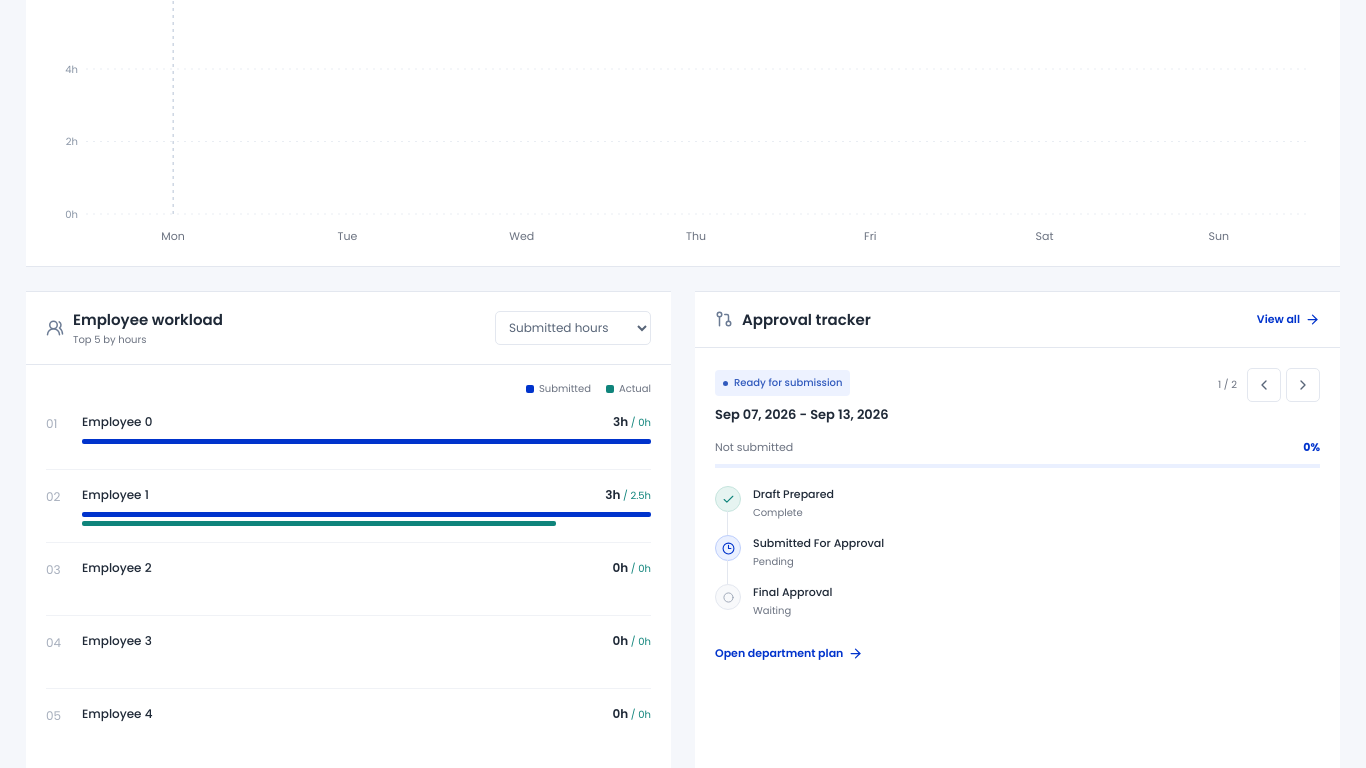
Test: Supervisor dashboard › shows date-clipped totals and excludes pending variance, with navigable workflows
(page scrolled)
Step 1. Click the button named "Next department workflow" → (1303, 385), box left=1286, top=368, right=1320, bottom=402
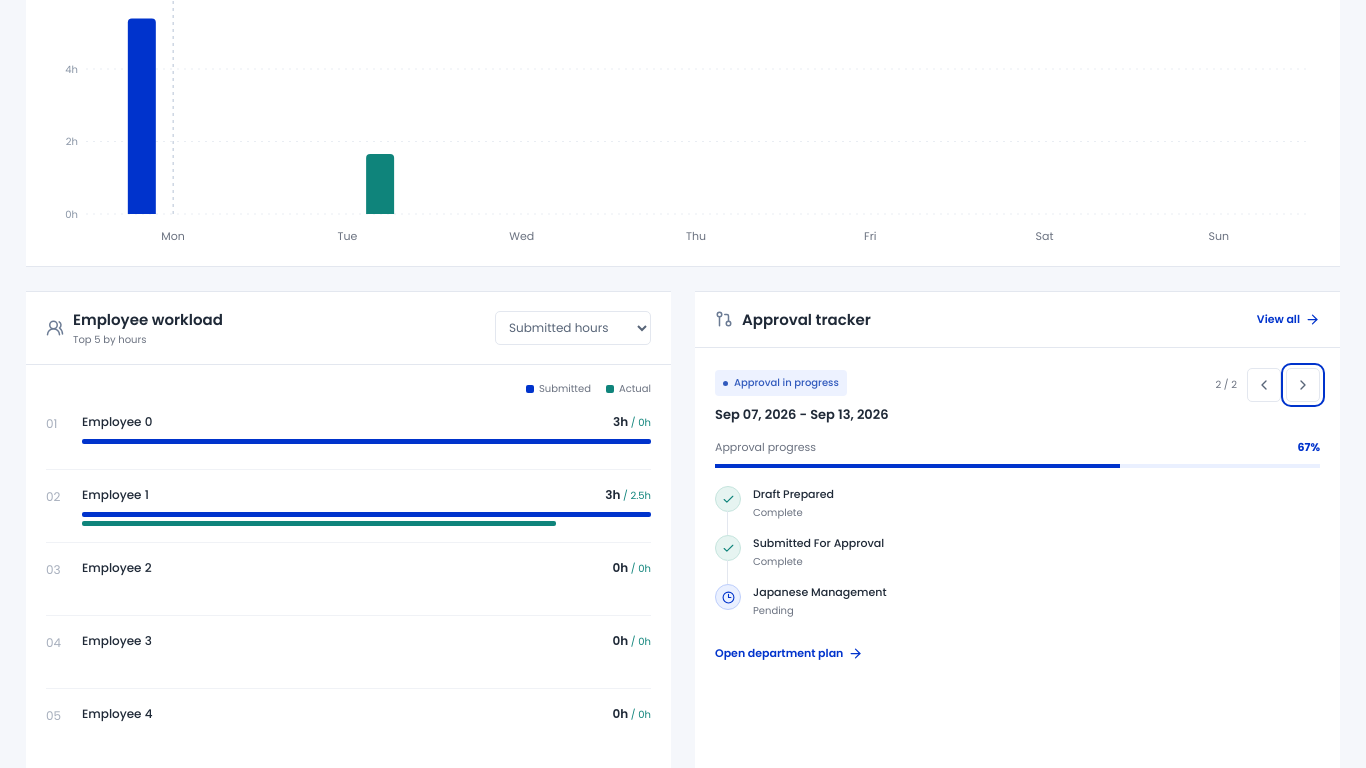
expect the text "Japanese management" is shown: met, box left=753, top=584, right=886, bottom=600
